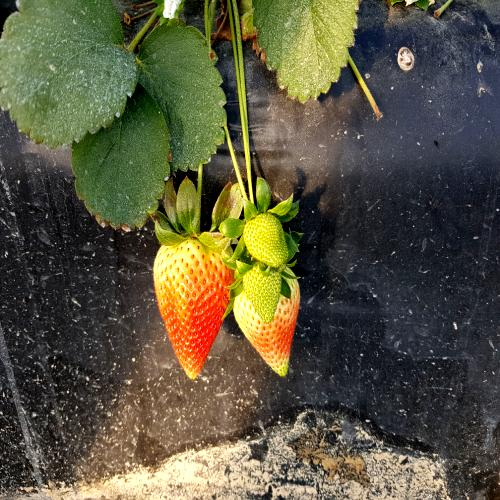partially-ripe: (146, 233, 238, 387), (230, 264, 310, 386)
